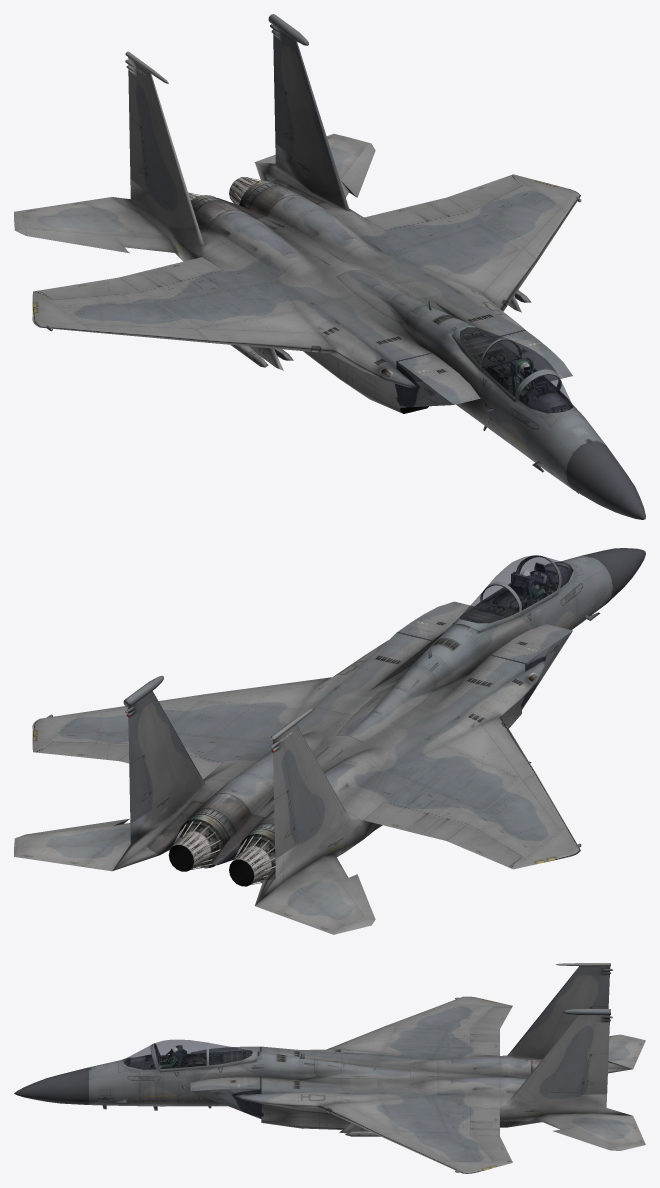
Rendered from RF-15_PeakEagle.dat.obj.
3 views of the same model, one above another, from view 1: azimuth 30°, elevation 25°; view 2: azimuth 150°, elevation 25°; view 3: azimuth 270°, elevation 25° (orthographic). The views are drawn at different scales.
Parts seen in each view (by area): view 1: RF-15_LOD0_default, RF-15_ElevatorR01_default, RF-15_Glass_Canopy01_default, RF-15_IntakeR01_default, RF-15_Canopy01_default, RF-15_BrakeL01_default, RF-15_ElevatorL01_default, RF-15_RudderR01_default, RF-15_RudderL01_default, RF-15_FlapR01_default, RF-15_FlapL01_default, RF-15_IntakeL01_default (+2 smaller); view 2: RF-15_LOD0_default, RF-15_ElevatorR01_default, RF-15_ElevatorL01_default, RF-15_Glass_Canopy01_default, RF-15_BrakeL01_default, RF-15_IntakeR01_default, RF-15_EngineL01_default, RF-15_Canopy01_default, RF-15_RudderL01_default, RF-15_RudderR01_default, RF-15_FlapR01_default, RF-15_EngineR01_default (+3 smaller); view 3: RF-15_LOD0_default, RF-15_ElevatorL01_default, RF-15_Glass_Canopy01_default, RF-15_IntakeL01_default, RF-15_RudderL01_default, RF-15_BrakeL01_default, RF-15_Canopy01_default, RF-15_ElevatorR01_default, RF-15_FlapL01_default, RF-15_FlapR01_default, RF-15_RudderR01_default, RF-15_AileronL01_default (+1 smaller).
Boxes of the visible parts, box(x1,y1,x2,y2) form: RF-15_LOD0_default: box(32, 14, 645, 519); RF-15_ElevatorR01_default: box(14, 197, 177, 253); RF-15_Glass_Canopy01_default: box(460, 327, 573, 413); RF-15_IntakeR01_default: box(395, 352, 480, 407); RF-15_Canopy01_default: box(451, 324, 559, 402); RF-15_BrakeL01_default: box(336, 270, 437, 324); RF-15_ElevatorL01_default: box(255, 133, 375, 197); RF-15_RudderR01_default: box(128, 70, 150, 193); RF-15_RudderL01_default: box(273, 35, 294, 158); RF-15_FlapR01_default: box(119, 257, 221, 291); RF-15_FlapL01_default: box(364, 197, 466, 229); RF-15_IntakeL01_default: box(494, 330, 572, 381); RF-15_LOD0_default: box(32, 548, 645, 905); RF-15_ElevatorR01_default: box(255, 855, 375, 934); RF-15_ElevatorL01_default: box(14, 818, 130, 871); RF-15_Glass_Canopy01_default: box(460, 555, 573, 622); RF-15_BrakeL01_default: box(336, 659, 439, 741); RF-15_IntakeR01_default: box(490, 624, 572, 709); RF-15_EngineL01_default: box(168, 819, 223, 871); RF-15_Canopy01_default: box(452, 555, 560, 631); RF-15_RudderL01_default: box(128, 711, 153, 823); RF-15_RudderR01_default: box(273, 746, 298, 858); RF-15_FlapR01_default: box(364, 803, 466, 840); RF-15_EngineR01_default: box(229, 834, 275, 886); RF-15_LOD0_default: box(14, 963, 632, 1173); RF-15_ElevatorL01_default: box(535, 1113, 645, 1150); RF-15_Glass_Canopy01_default: box(123, 1039, 252, 1069); RF-15_IntakeL01_default: box(190, 1077, 261, 1118); RF-15_RudderL01_default: box(578, 1022, 609, 1094); RF-15_BrakeL01_default: box(304, 1059, 409, 1078); RF-15_Canopy01_default: box(152, 1042, 261, 1072); RF-15_ElevatorR01_default: box(608, 1034, 645, 1068); RF-15_FlapL01_default: box(472, 1107, 499, 1136); RF-15_FlapR01_default: box(472, 1028, 499, 1055); RF-15_RudderR01_default: box(587, 975, 609, 1008); RF-15_AileronL01_default: box(473, 1135, 511, 1160).
Size of the model in its own units: 12.93 by 4.35 by 19.47.
